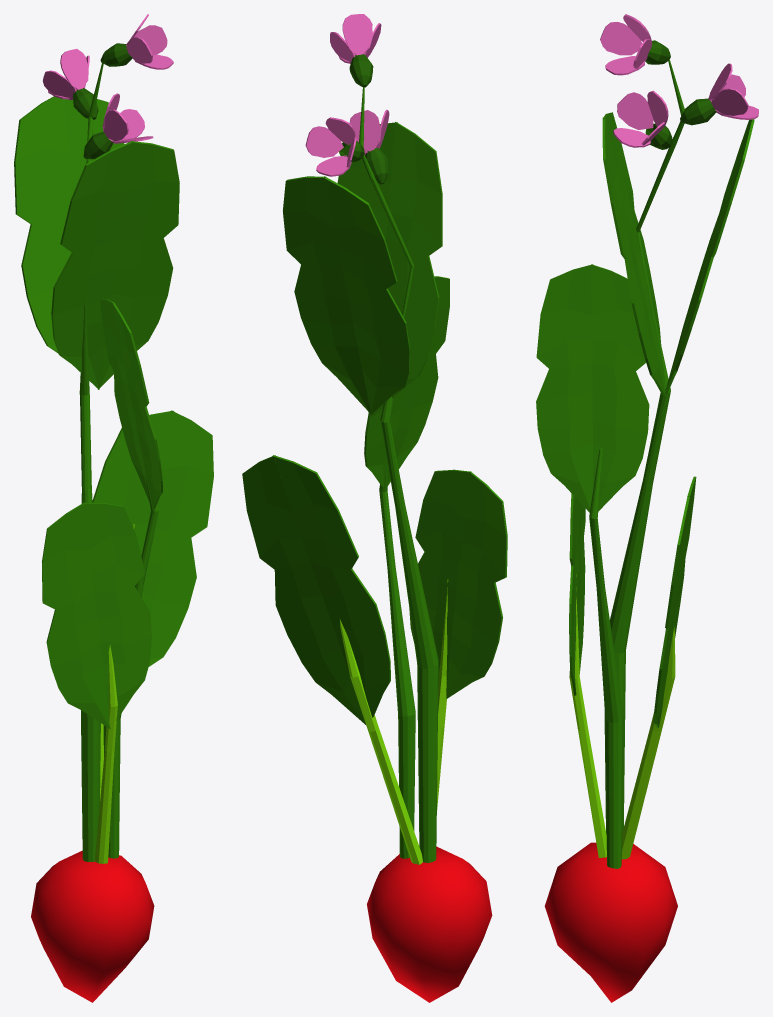
The model's file is Radish Seed Flowering.fbx.
3 views of the same model, side by side, from view 1: azimuth 30°, elevation 25°; view 2: azimuth 150°, elevation 25°; view 3: azimuth 270°, elevation 25° (orthographic). The views are drawn at different scales.
Parts seen in each view (by area): view 1: Plane.002, Plane, Plane.001, Icosphere, Plane.004, Plane.003, Cylinder.003, Cylinder.001, Cylinder.004, Plane.007, Plane.006, Plane.013 (+6 smaller); view 2: Plane.001, Plane.004, Plane, Icosphere, Plane.002, Cylinder.003, Plane.003, Cylinder.004, Cylinder.002, Cylinder.001, Plane.010, Plane.005 (+2 smaller); view 3: Plane.003, Icosphere, Cylinder.003, Plane.002, Cylinder.004, Plane.004, Plane, Plane.001, Cylinder.002, Cylinder.001, Plane.012, Plane.013 (+4 smaller).
Boxes of the visible parts, x1=… form: Plane.002: x1=51, y1=141, x2=179, y2=389; Plane: x1=42, y1=502, x2=151, y2=729; Plane.001: x1=92, y1=410, x2=213, y2=666; Icosphere: x1=31, y1=850, x2=154, y2=1002; Plane.004: x1=14, y1=96, x2=124, y2=353; Plane.003: x1=100, y1=298, x2=162, y2=508; Cylinder.003: x1=79, y1=63, x2=103, y2=861; Cylinder.001: x1=95, y1=644, x2=117, y2=863; Cylinder.004: x1=103, y1=475, x2=158, y2=858; Plane.007: x1=60, y1=49, x2=88, y2=89; Plane.006: x1=43, y1=70, x2=76, y2=100; Plane.013: x1=103, y1=109, x2=128, y2=141; Plane.001: x1=242, y1=455, x2=390, y2=724; Plane.004: x1=283, y1=176, x2=410, y2=414; Plane: x1=409, y1=469, x2=507, y2=698; Icosphere: x1=367, y1=846, x2=492, y2=1002; Plane.002: x1=337, y1=122, x2=442, y2=417; Cylinder.003: x1=359, y1=87, x2=438, y2=862; Plane.003: x1=364, y1=276, x2=449, y2=487; Cylinder.004: x1=379, y1=462, x2=415, y2=858; Cylinder.002: x1=340, y1=619, x2=422, y2=864; Cylinder.001: x1=437, y1=579, x2=448, y2=809; Plane.010: x1=342, y1=14, x2=372, y2=55; Plane.005: x1=305, y1=126, x2=343, y2=157; Plane.003: x1=536, y1=264, x2=649, y2=512; Icosphere: x1=544, y1=842, x2=677, y2=1002; Cylinder.003: x1=604, y1=59, x2=684, y2=834; Plane.002: x1=602, y1=112, x2=666, y2=398; Cylinder.004: x1=589, y1=448, x2=623, y2=868; Plane.004: x1=665, y1=119, x2=754, y2=394; Plane: x1=569, y1=493, x2=585, y2=695; Plane.001: x1=653, y1=476, x2=696, y2=727; Cylinder.002: x1=621, y1=626, x2=675, y2=859; Cylinder.001: x1=569, y1=574, x2=606, y2=857; Plane.012: x1=600, y1=22, x2=641, y2=55; Plane.013: x1=617, y1=92, x2=653, y2=129.
Bounding box in the file's own units: 394 × 1686 × 334.
